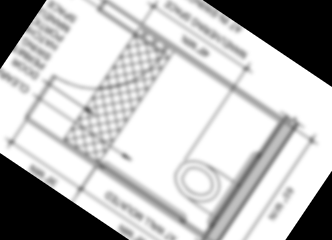door: (51, 4, 167, 121)
